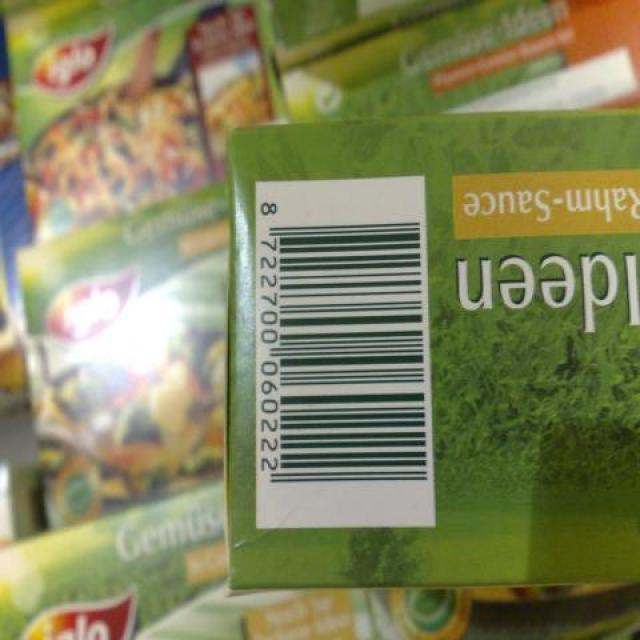Barcode: (252, 176, 436, 525)
